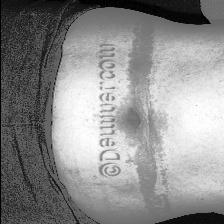Toxin: (119, 16, 175, 218)
